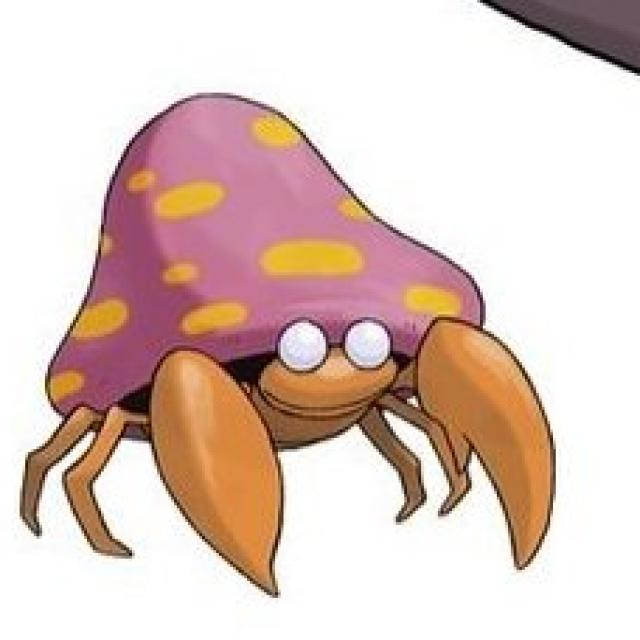Parasect: (39, 96, 559, 555)
